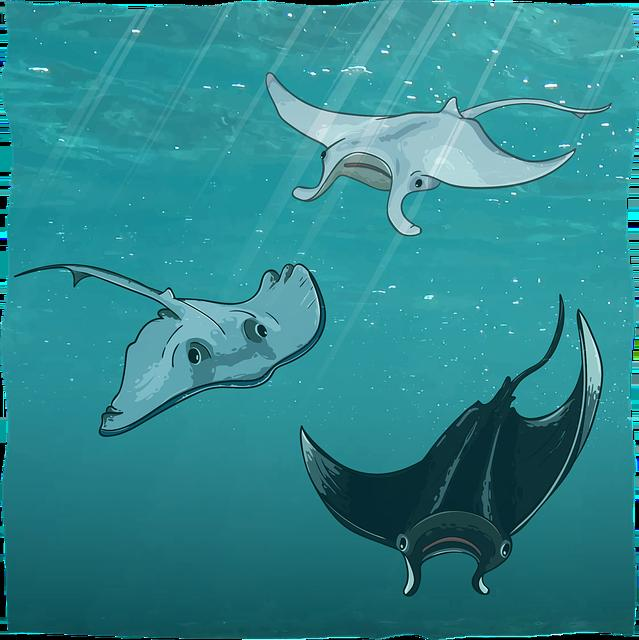Non_Gorille: (40, 45, 639, 640)
